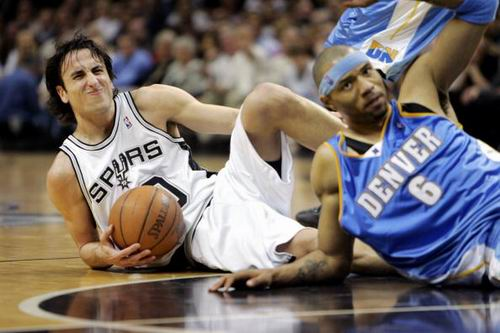fall: (295, 38, 500, 290)
